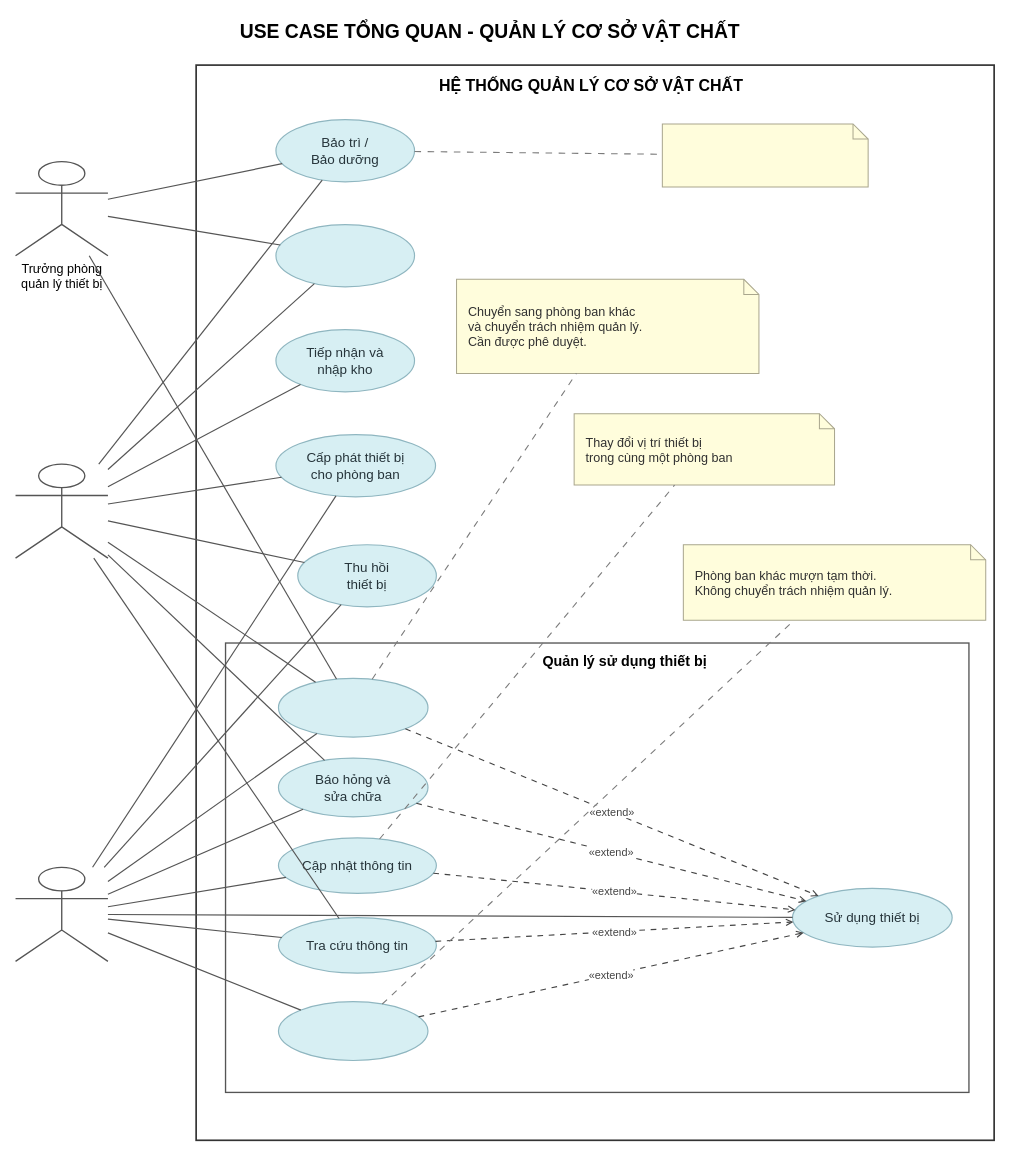
Image size: 1010x1155. Some labels were removed from this diagram. The centre of each missing label's shape, as x and y in pixels:
"Bảo trì theo lịch hoặc đột xuất" goes at [764,155].
"Mượn / Trả thiết bị" goes at [352,1031].
"Nhân viên phòng ban" goes at [61,914].
"Nhân viên phòng quản lý thiết bị" goes at [61,510].
"Thanh lý thiết bị" goes at [345,255].
"Điều chuyển thiết bị" goes at [352,707].
